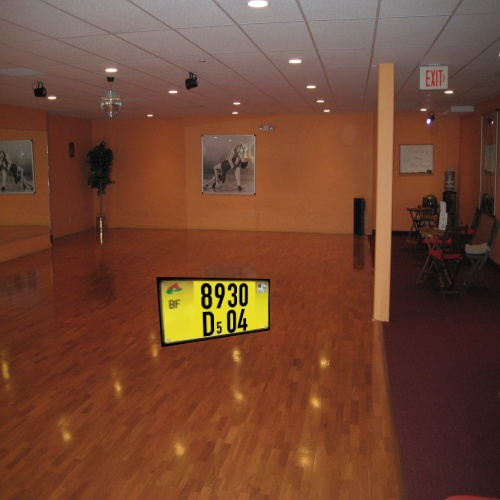plate: (145, 264, 281, 364)
